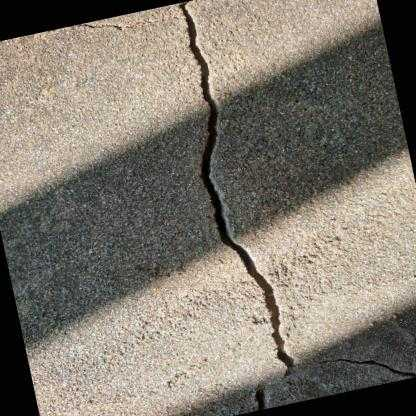crack: (178, 0, 293, 378), (297, 358, 416, 377)
